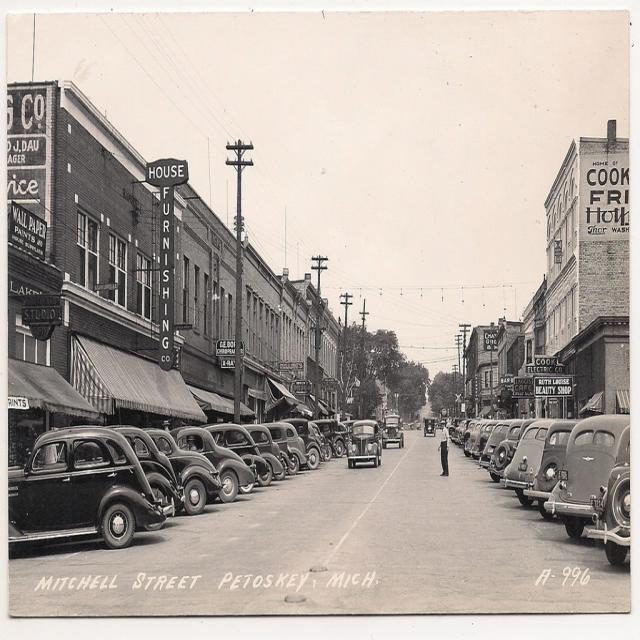car: (422, 418, 432, 437)
